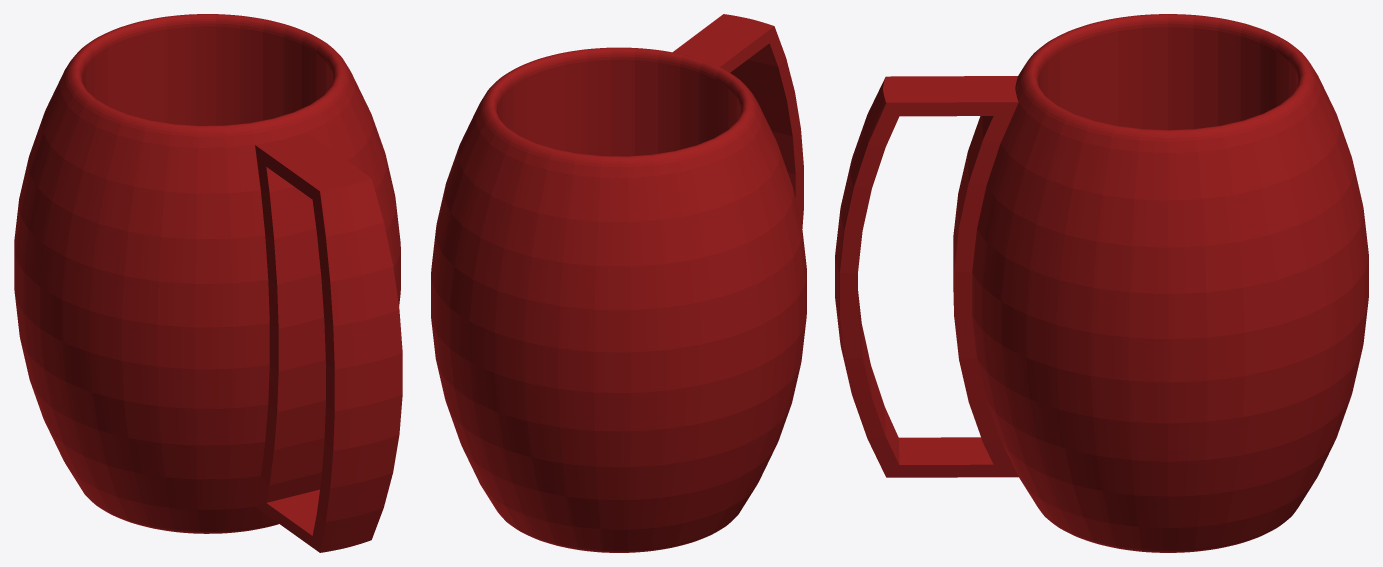
File: RealBarrelCup.obj
3 views of the same model, side by side, from view 1: azimuth 30°, elevation 25°; view 2: azimuth 150°, elevation 25°; view 3: azimuth 270°, elevation 25° (orthographic). The views are drawn at different scales.
Parts seen in each view (by area): view 1: Cylinder; view 2: Cylinder; view 3: Cylinder.
Part boxes in pixels (x1,y1,x2,y2): Cylinder: (14, 14, 402, 552); Cylinder: (431, 14, 806, 552); Cylinder: (835, 14, 1368, 552).
Bounding box in the file's own units: 3.02 × 3.55 × 4.01.
